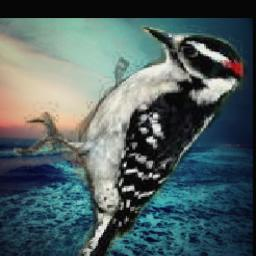Woodpecker: (12, 25, 247, 256)
